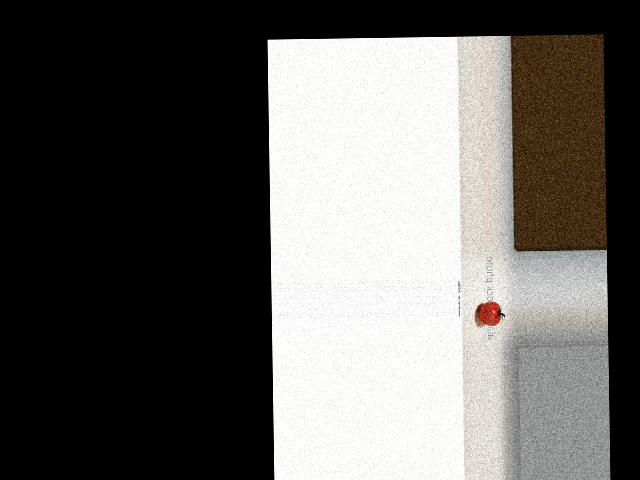tomato: (478, 301, 501, 325)
